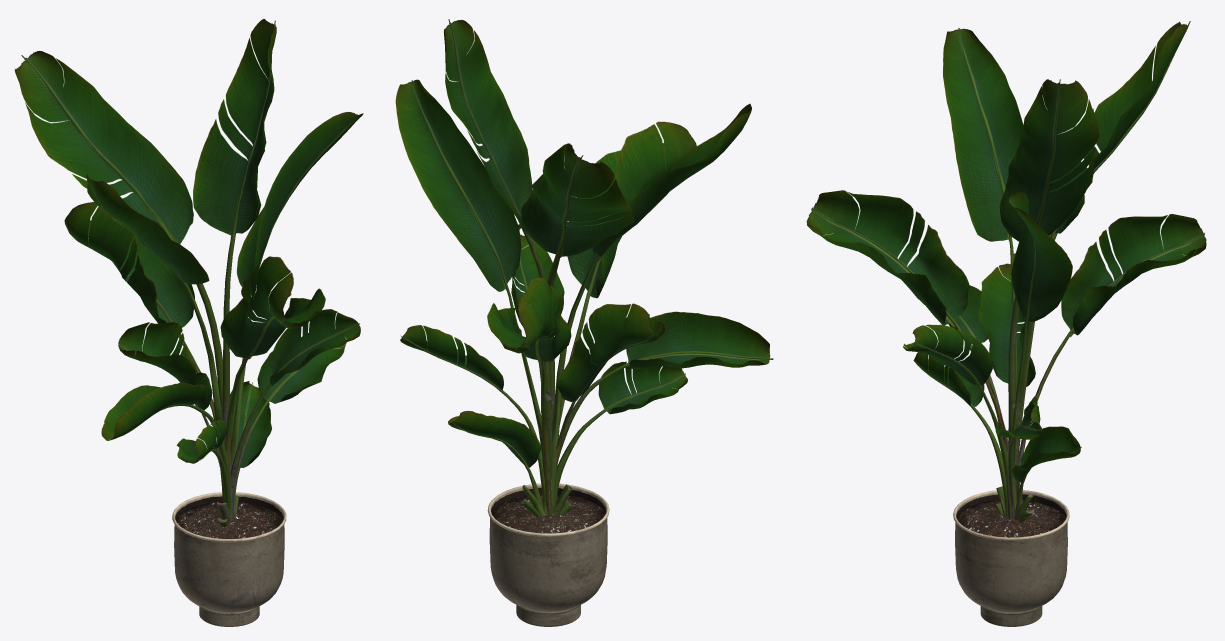
Rendered from Plant1.glb.
The picture shows the model from 3 angles, left to right: view 1: azimuth 30°, elevation 25°; view 2: azimuth 150°, elevation 25°; view 3: azimuth 270°, elevation 25°; orthographic projection. The views are drawn at different scales.
Visible parts, largest first — view 1: STRELITZIA_NICOLAI, METAL_POT_03; view 2: STRELITZIA_NICOLAI, METAL_POT_03; view 3: STRELITZIA_NICOLAI, METAL_POT_03.
Part boxes in pixels (x1,y1,x2,y2): STRELITZIA_NICOLAI: (14, 18, 363, 526); METAL_POT_03: (172, 492, 286, 626); STRELITZIA_NICOLAI: (395, 19, 773, 517); METAL_POT_03: (487, 483, 609, 626); STRELITZIA_NICOLAI: (806, 21, 1206, 521); METAL_POT_03: (953, 490, 1069, 626).
Bounding box in the file's own units: 1.82 × 3.19 × 2.04.
Materials: 2 (2 with a texture image).
